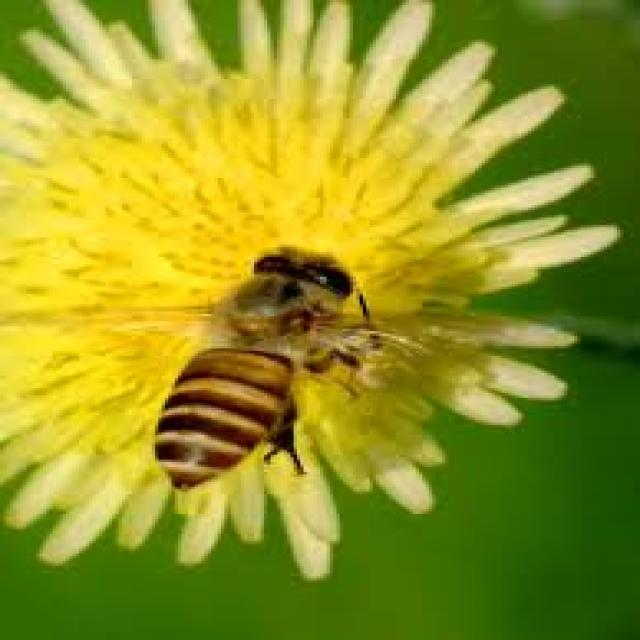Bees: (54, 245, 515, 490)
